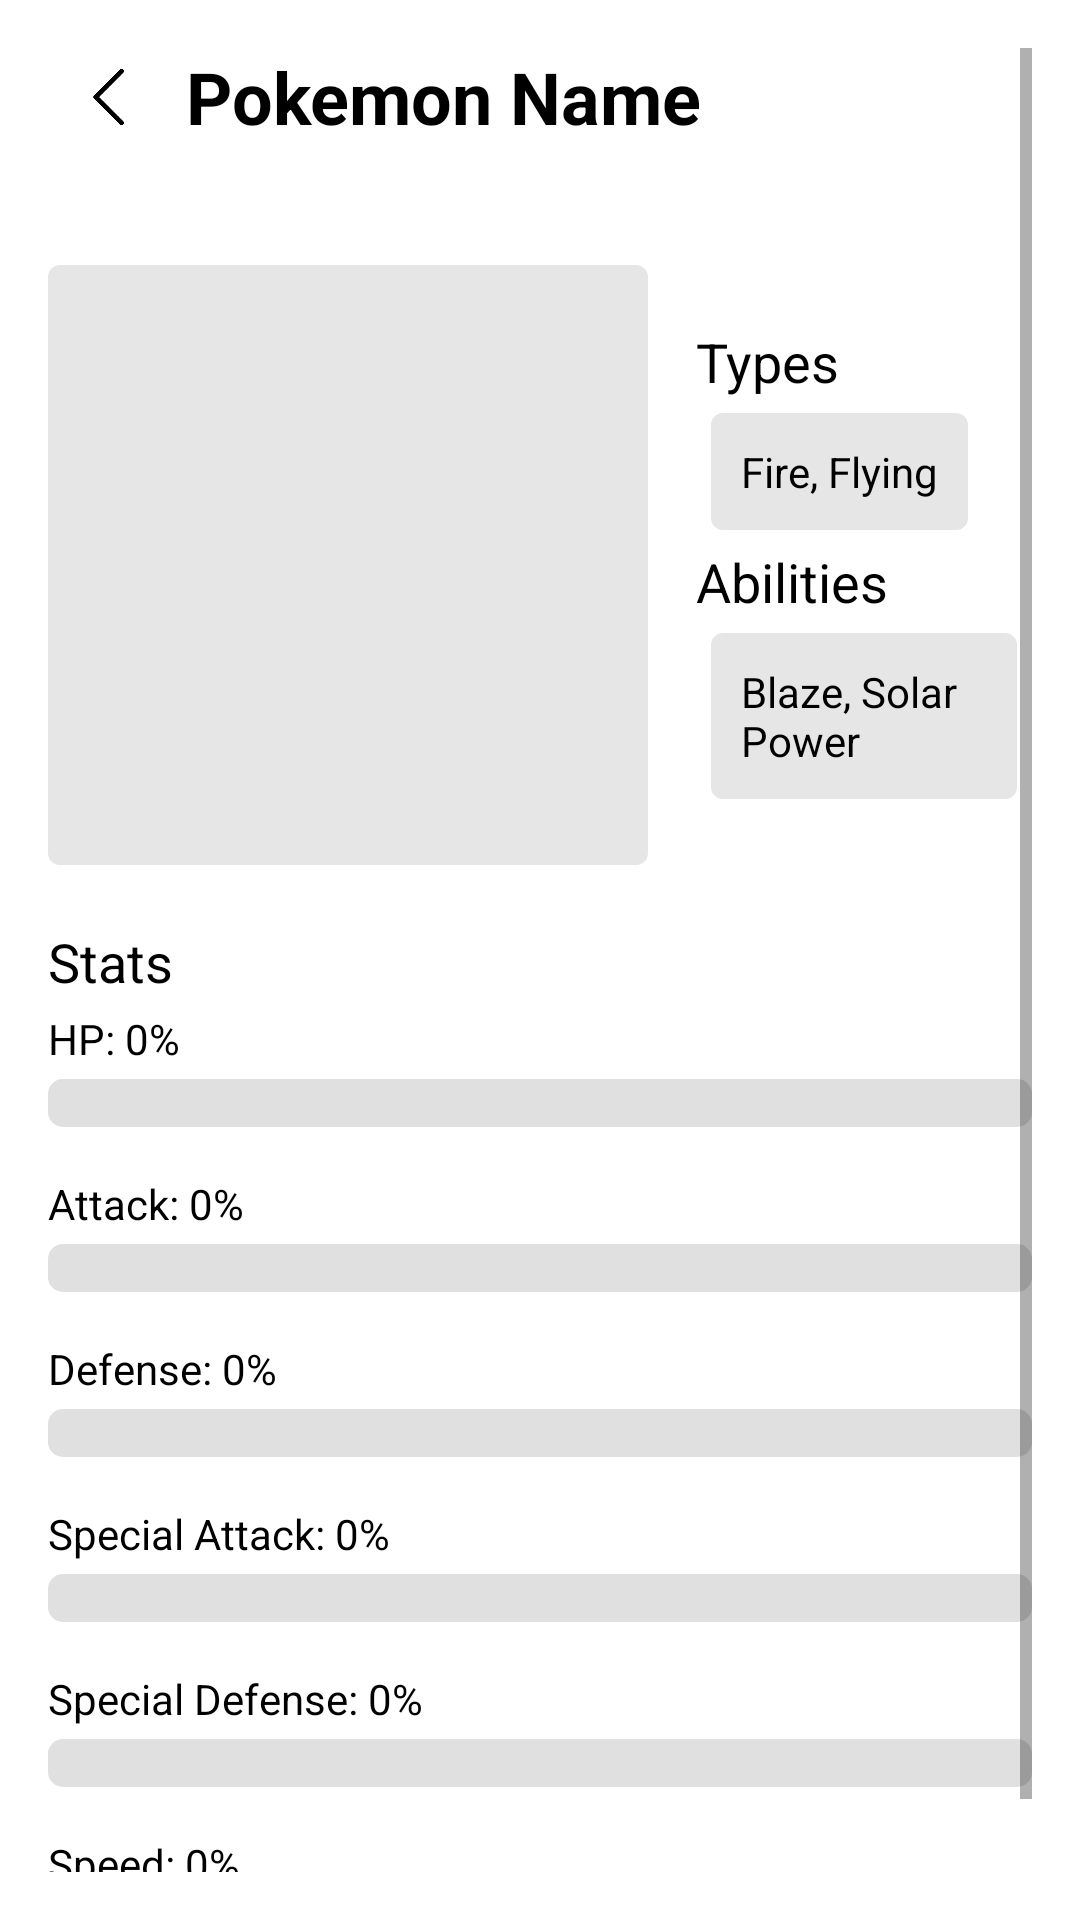

Icons on this 1080 x 1920 Android screen, each with its box as (x1, y1, x2, y2):
arrow back: (93, 69, 124, 125)
